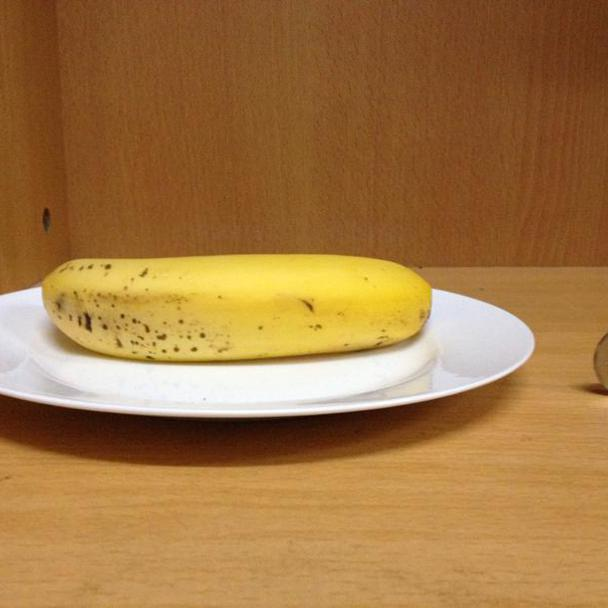banana: (38, 237, 446, 367)
